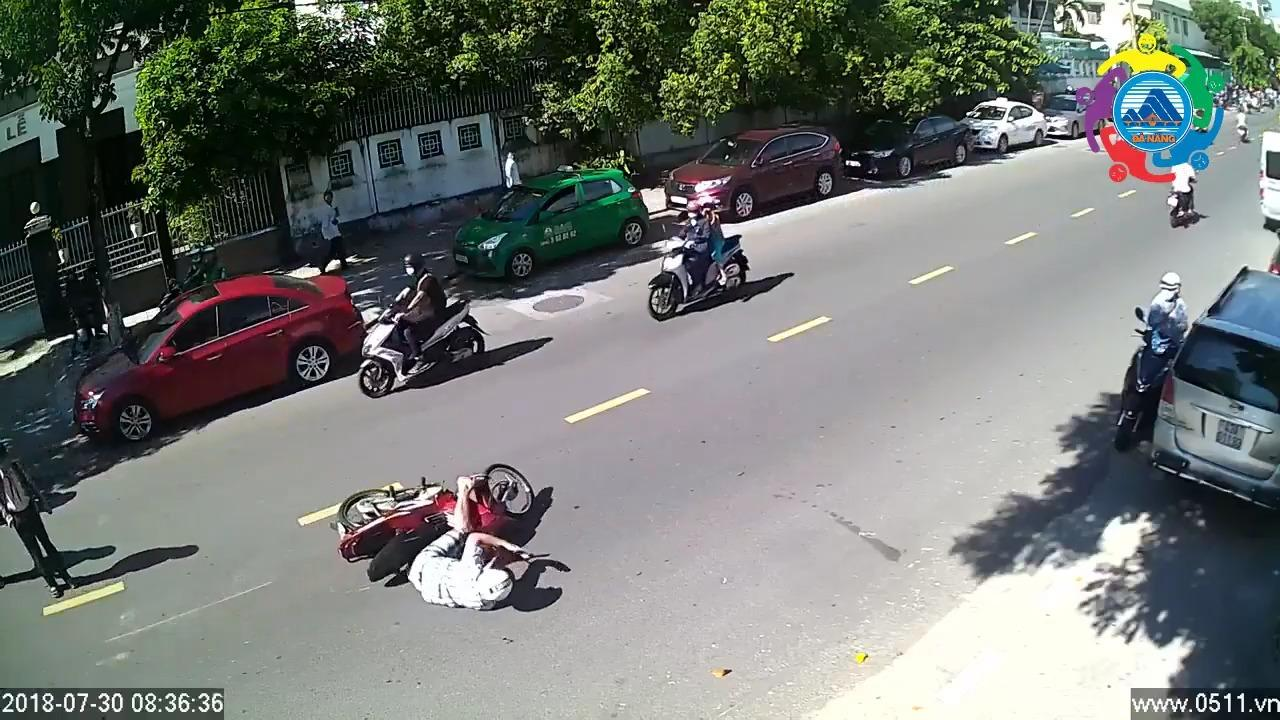accident: (336, 462, 552, 612)
car: (71, 267, 369, 447), (1149, 260, 1280, 518), (459, 163, 645, 282), (667, 125, 845, 223), (844, 108, 974, 183), (969, 92, 1048, 157)
motorcycle: (357, 250, 487, 402), (1124, 265, 1191, 458), (646, 200, 750, 320), (1164, 147, 1199, 233)
